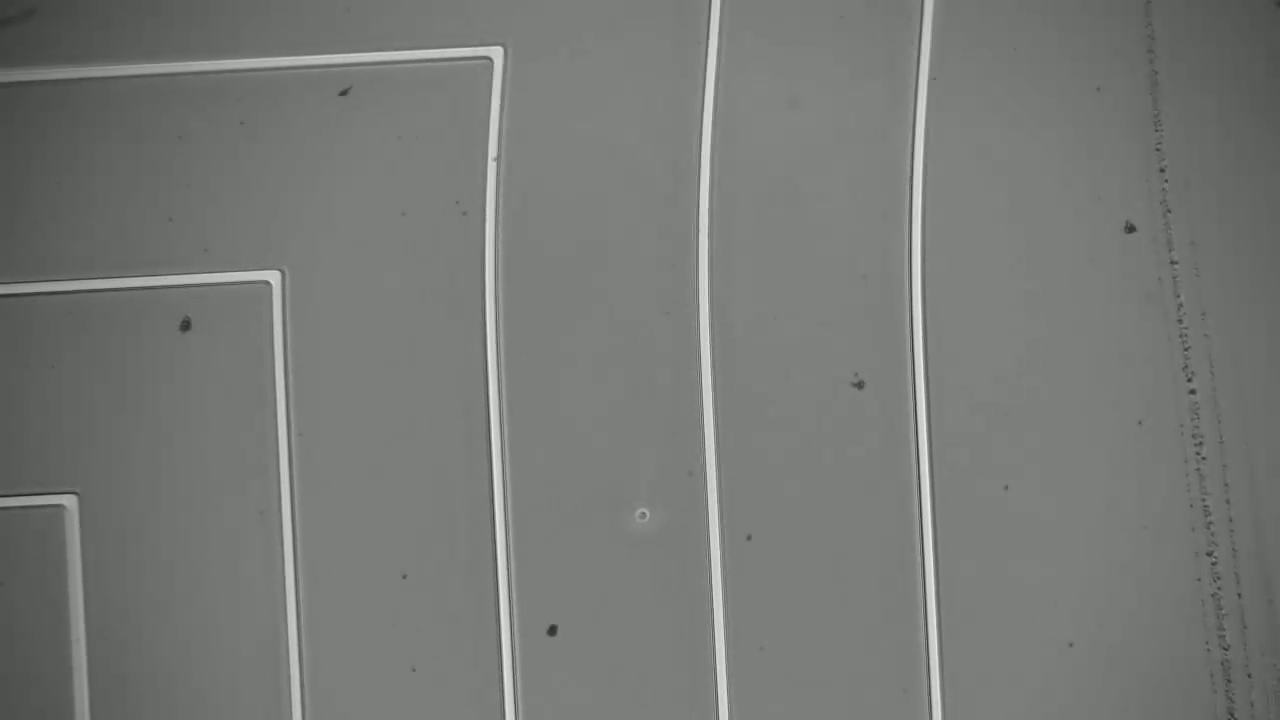scratch: (1136, 4, 1271, 720)
